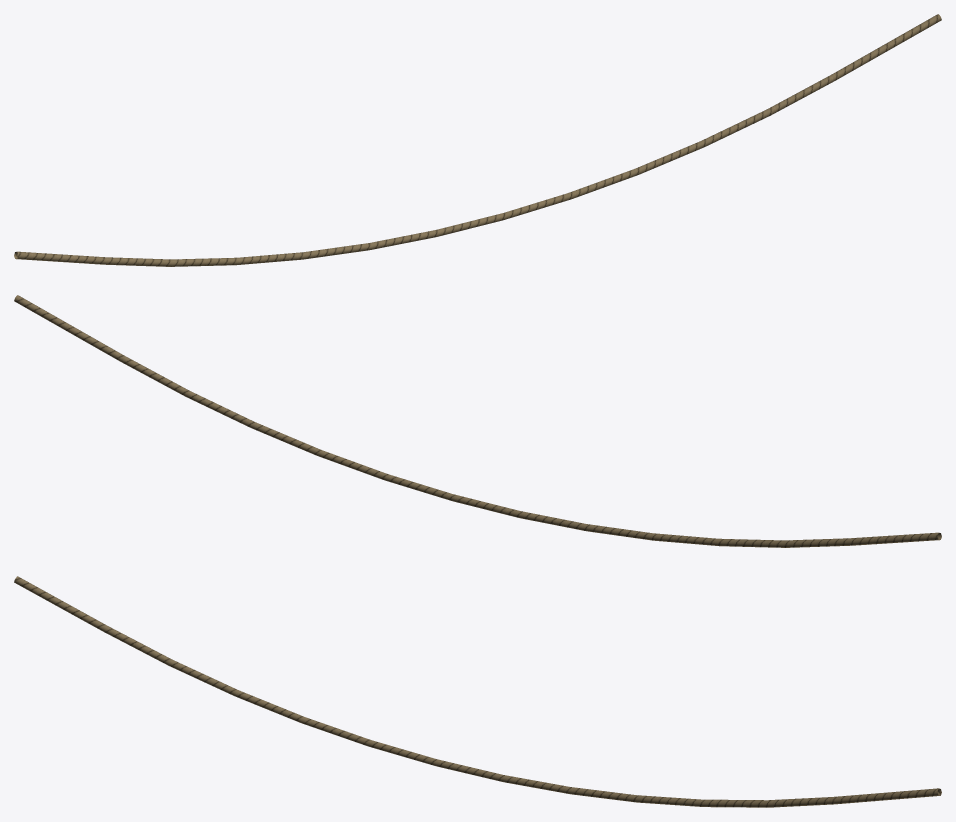
The model's file is SM_rope_hanging.fbx.
3 renders of one model, top to bottom at view 1: azimuth 30°, elevation 25°; view 2: azimuth 150°, elevation 25°; view 3: azimuth 330°, elevation 25°, orthographic.
Visible parts, largest first — view 1: Group10645; view 2: Group10645; view 3: Group10645.
Boxes of the visible parts, <box> form: Group10645: <box>14,14,941,266</box>; Group10645: <box>14,295,941,547</box>; Group10645: <box>14,576,941,807</box>.
Bounding box in the file's own units: 169 × 17.58 × 1.11.
